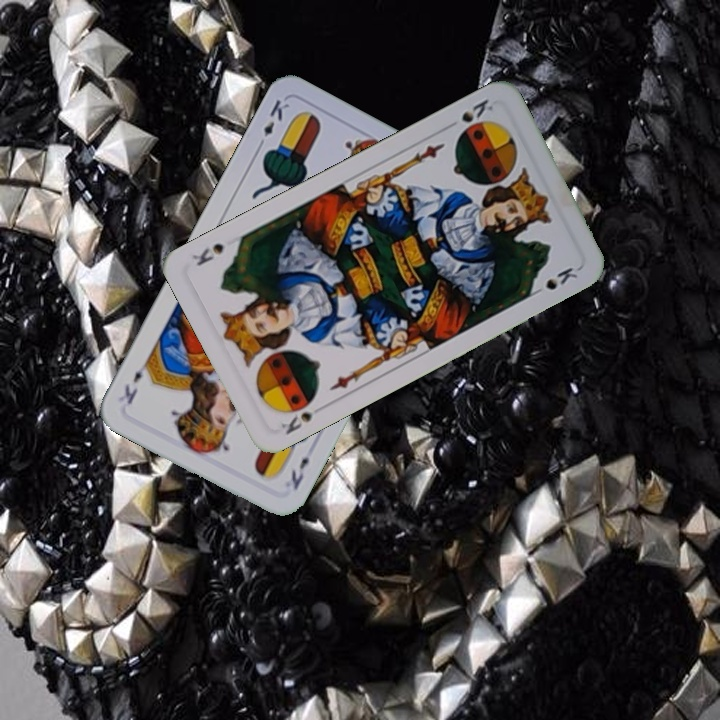EK: (253, 95, 292, 151), (287, 453, 312, 493)
SK: (277, 400, 329, 437), (457, 95, 496, 126)
